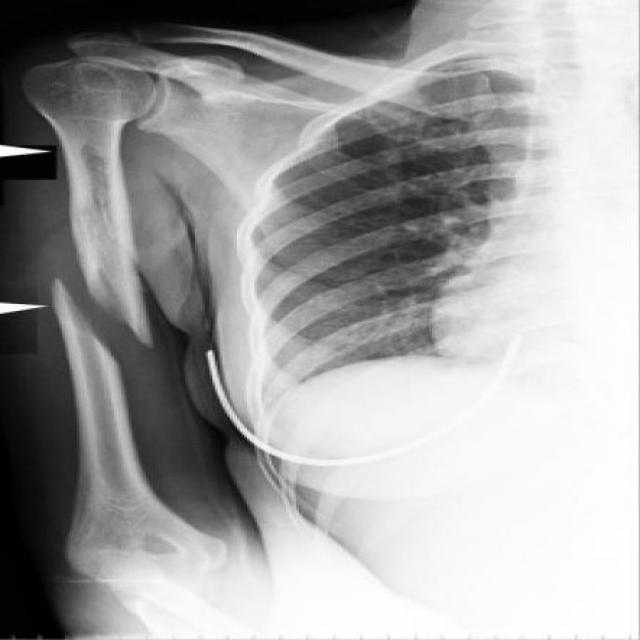pathological: (43, 255, 184, 389)
